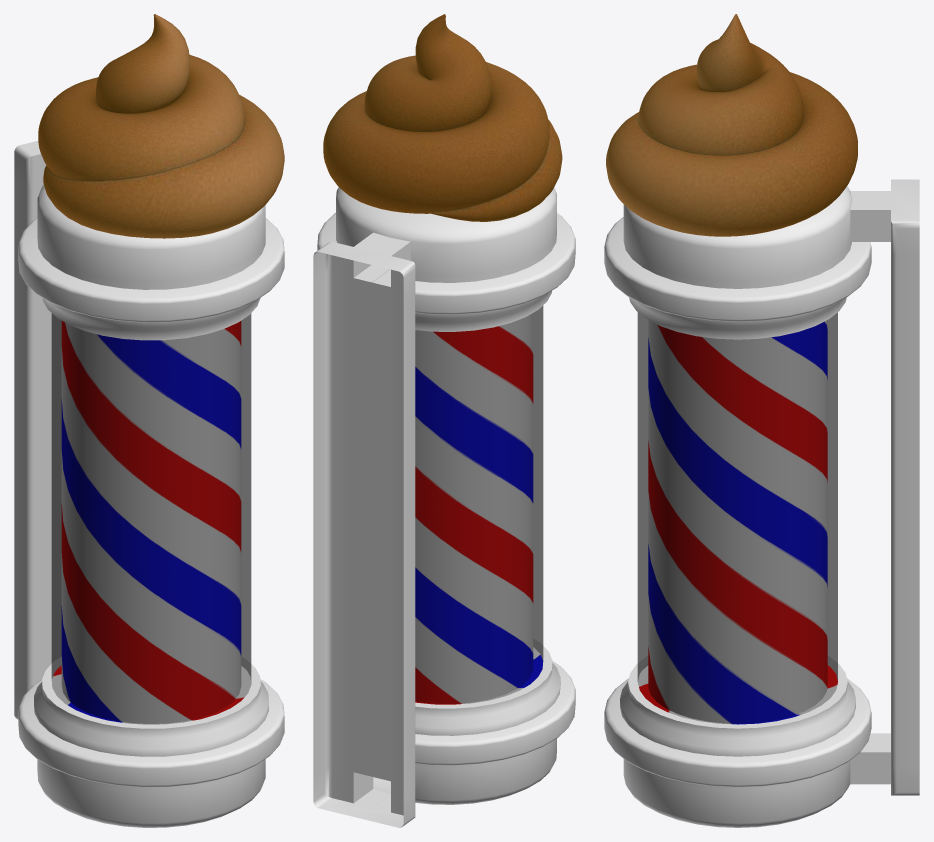
The model's file is shit_barbers_pole.glb.
3 views of the same model, side by side, from view 1: azimuth 30°, elevation 25°; view 2: azimuth 150°, elevation 25°; view 3: azimuth 270°, elevation 25° (orthographic). The views are drawn at different scales.
Visible parts, largest first — view 1: Ouiter; view 2: Ouiter; view 3: Ouiter.
Boxes of the visible parts, x1,y1,x2,y2 form: Ouiter: (14,14,284,827); Ouiter: (313,14,575,827); Ouiter: (604,14,919,827).
Bounding box in the file's own units: 0.7564 × 2.45 × 0.8925.
4 materials, 4 textured.
